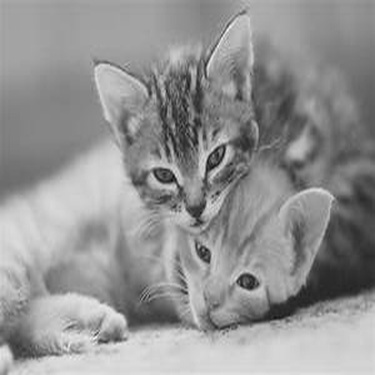cat: (1, 6, 368, 371), (32, 185, 334, 358)
